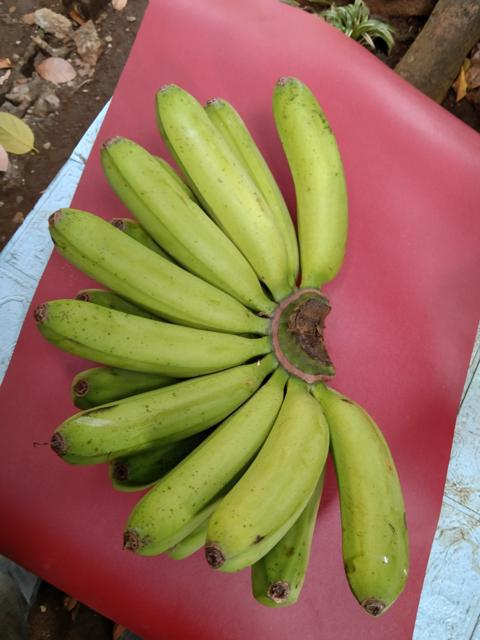freshunripe: (115, 372, 288, 554), (150, 77, 297, 291), (42, 197, 262, 337), (96, 131, 270, 302), (197, 376, 331, 566), (22, 291, 266, 376), (266, 70, 355, 287)
unripe: (303, 394, 424, 616), (44, 361, 284, 472)
